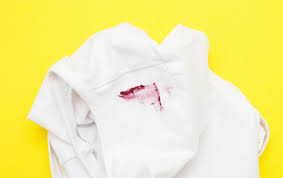kimchi: (118, 80, 163, 113)
